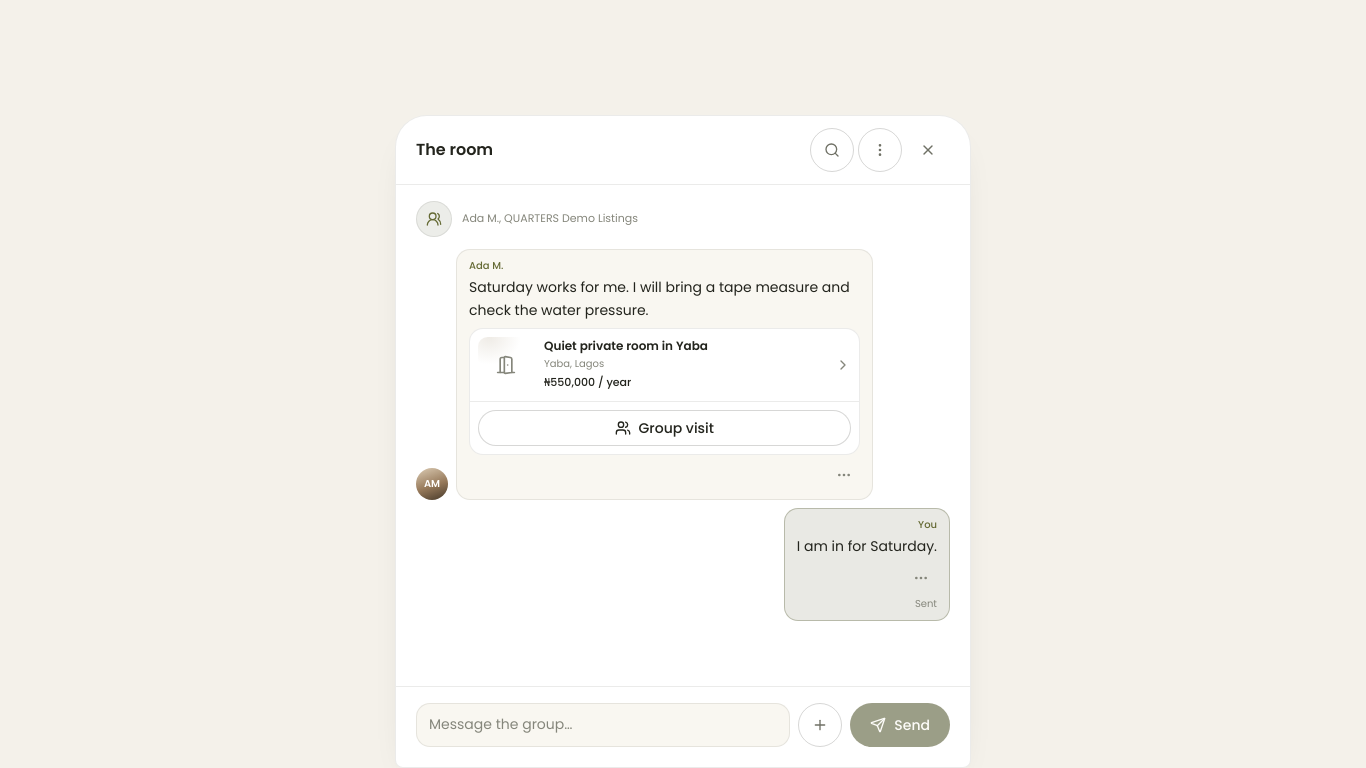
GroupChatSheet › asks for a group visit on a shared property
Click the button "Group visit": x=664, y=428 [478, 410, 850, 446]
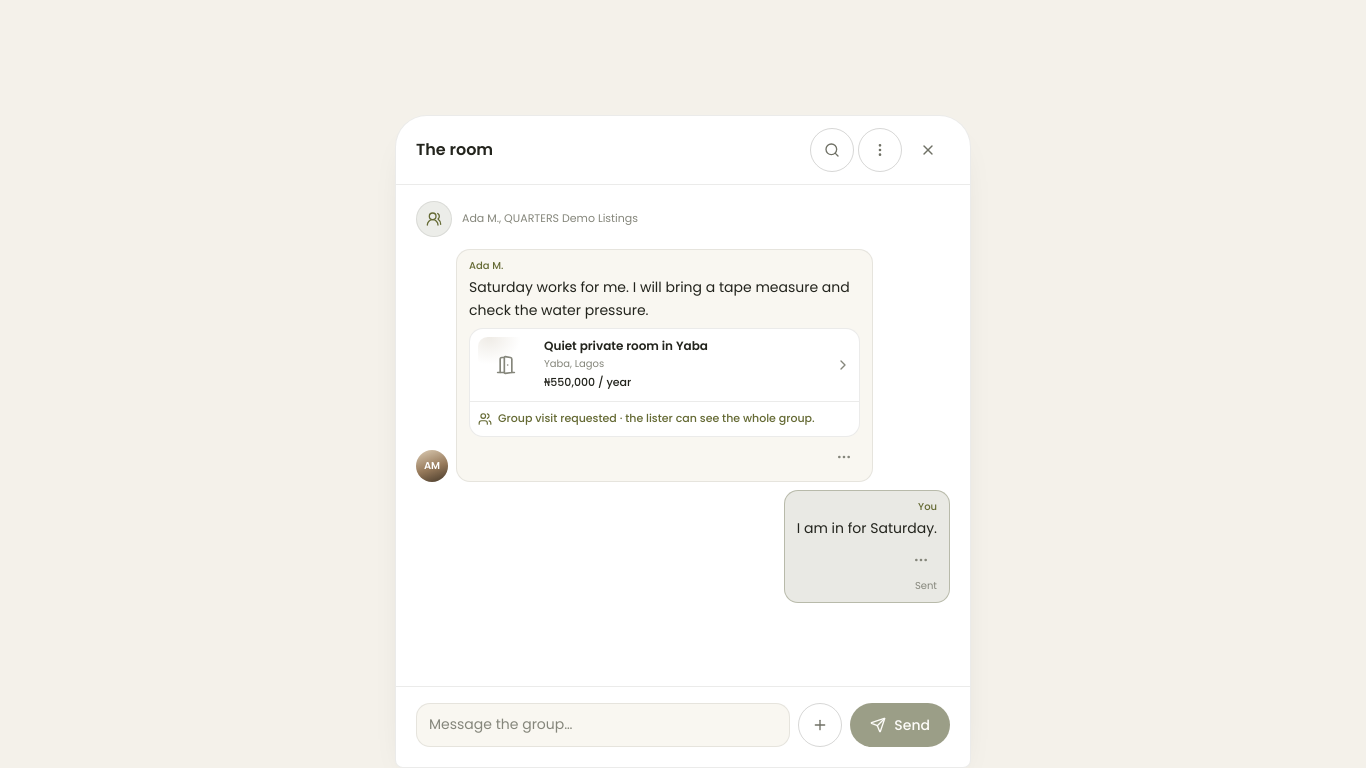
Expected: the text "Group visit requested · the lister can see the whole group." is shown, [478, 410, 850, 428]
